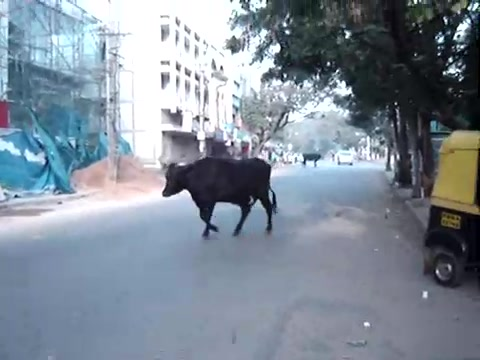cow: (163, 157, 279, 238)
